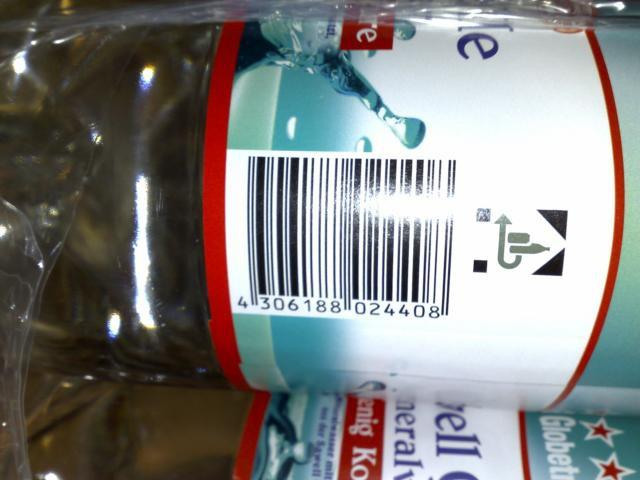Barcode: (227, 149, 468, 323)
